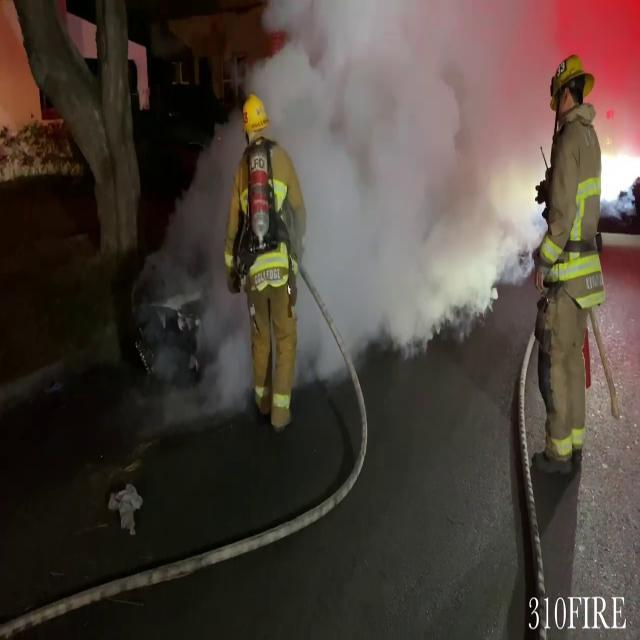Smoke: (261, 0, 486, 365)
